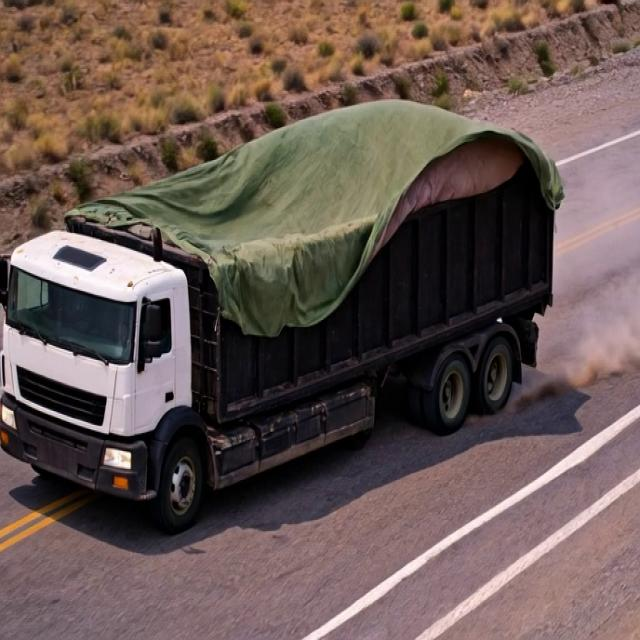Box: (68, 98, 567, 266)
Truck: (0, 72, 585, 517)
